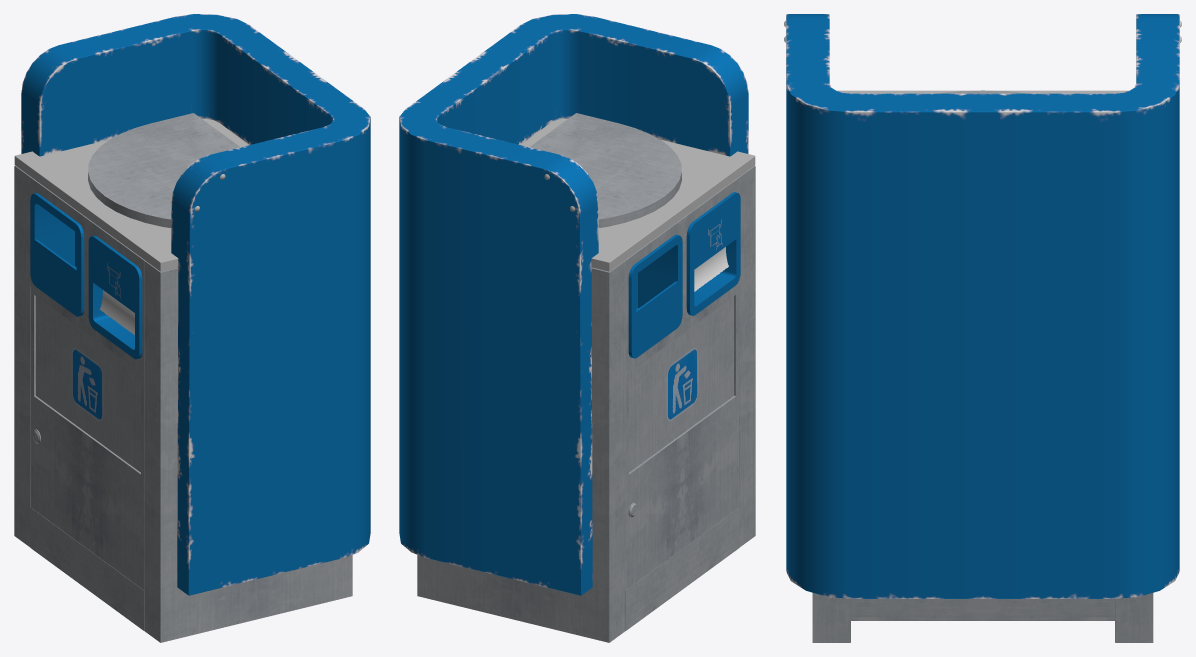
Rendered from Recycling.fbx.
3 views of the same model, side by side, from view 1: azimuth 30°, elevation 25°; view 2: azimuth 150°, elevation 25°; view 3: azimuth 270°, elevation 25° (orthographic). The views are drawn at different scales.
Visible parts, largest first — view 1: Plane.003; view 2: Plane.003; view 3: Plane.003.
Boxes of the visible parts, x1,y1,x2,y2 form: Plane.003: (14, 14, 370, 642); Plane.003: (399, 14, 755, 642); Plane.003: (784, 14, 1181, 642).
Size of the model in its own units: 191 by 385 by 253.
